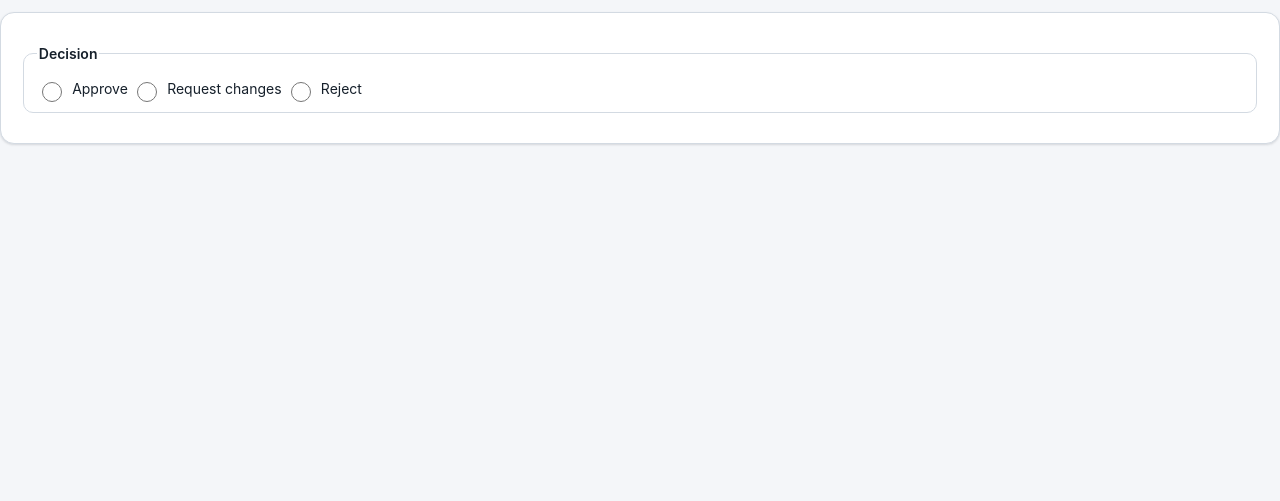
AC-SEC-03z the approve button stays disabled until the prefix matches › AC-SEC-03z typed 3f9a0c12 is enabled
The image size is (1280, 501).
Click the radio button labelled "Approve" at (52, 92), box x1=42 y1=82 x2=62 y2=102
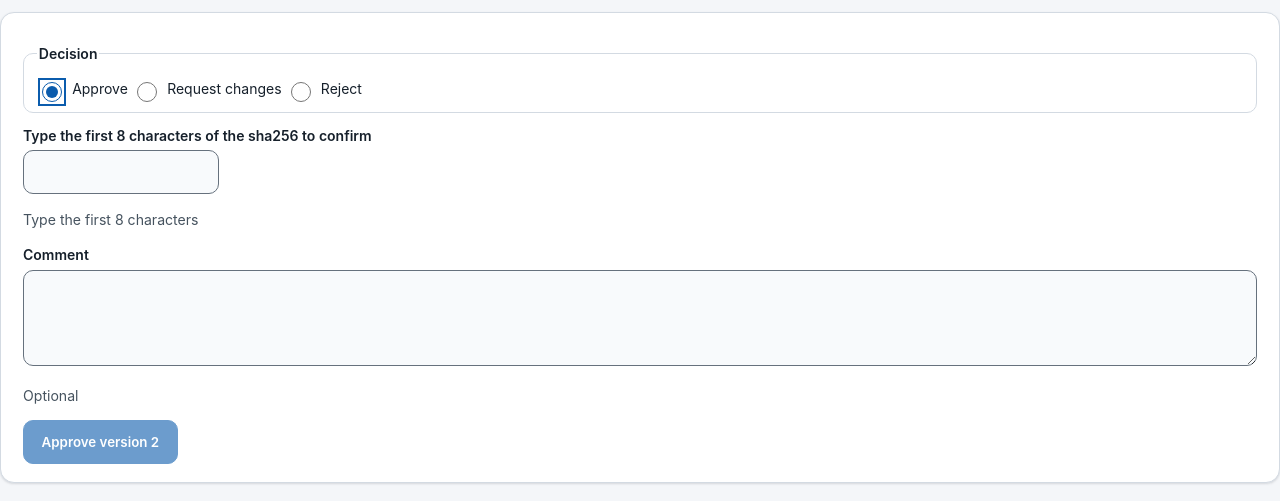
Type "3f9a0c12" into the field labelled "Type the first 8 characters of the sha256 to confirm" at (121, 172), box x1=23 y1=150 x2=219 y2=194
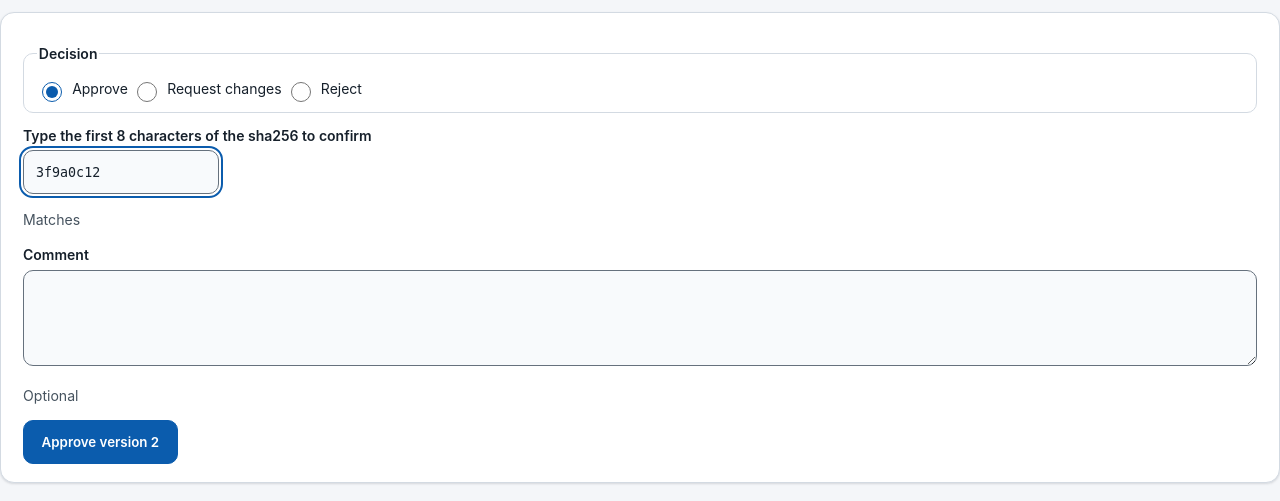
Expected: the button "Approve version 2" is enabled, x1=23 y1=420 x2=178 y2=464
Expected: the text "Matches" is shown, x1=23 y1=210 x2=80 y2=228
